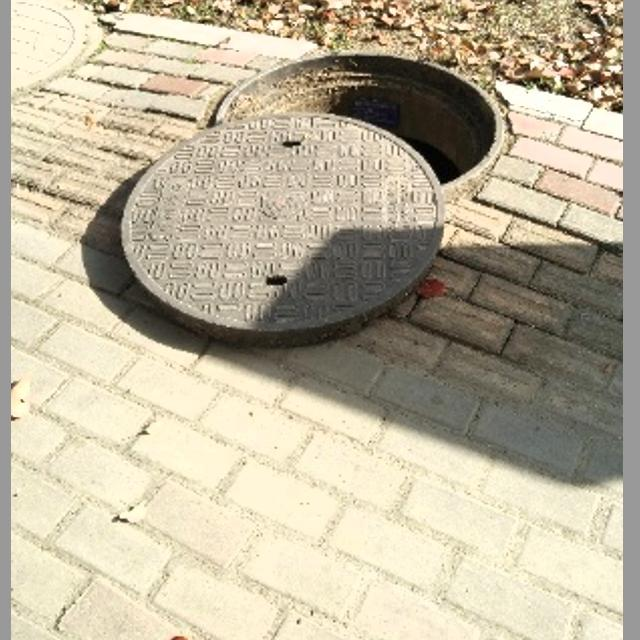uncovered: (109, 4, 532, 331)
